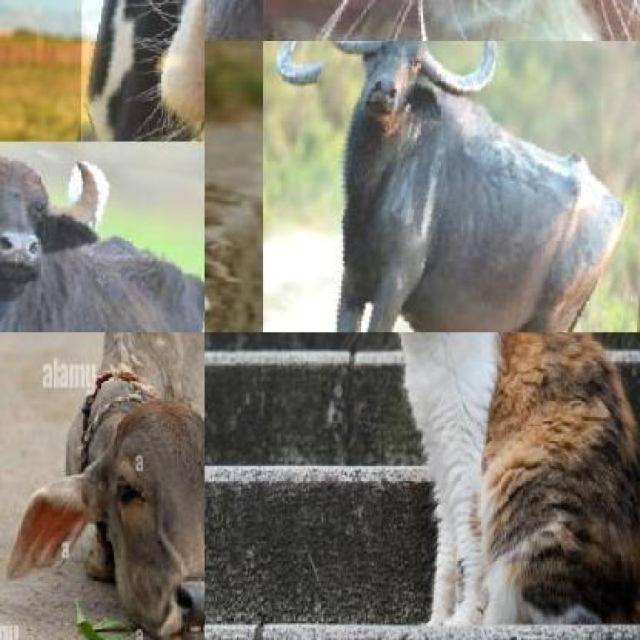buffalo: (263, 40, 640, 332), (0, 142, 205, 332)
cat: (352, 332, 640, 634)
cow: (54, 332, 204, 640), (76, 0, 204, 142)
